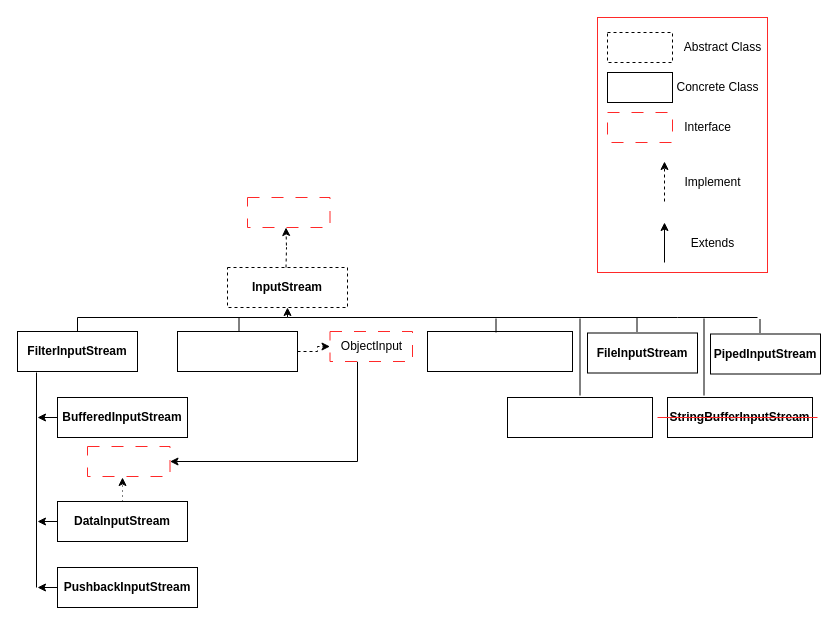
This 838x625 diagram has some shape labels left out. The shapes that lost their labels are listed below. From the top down, each one's centre as x and y in pixels, then its label:
At point (288, 212): "Closable".
At point (237, 351): "ObjectInputStream".
At point (499, 351): "ByteArrayInputStream".
At point (579, 417): "SequenceInputStream".
At point (128, 461): "DataInput".
